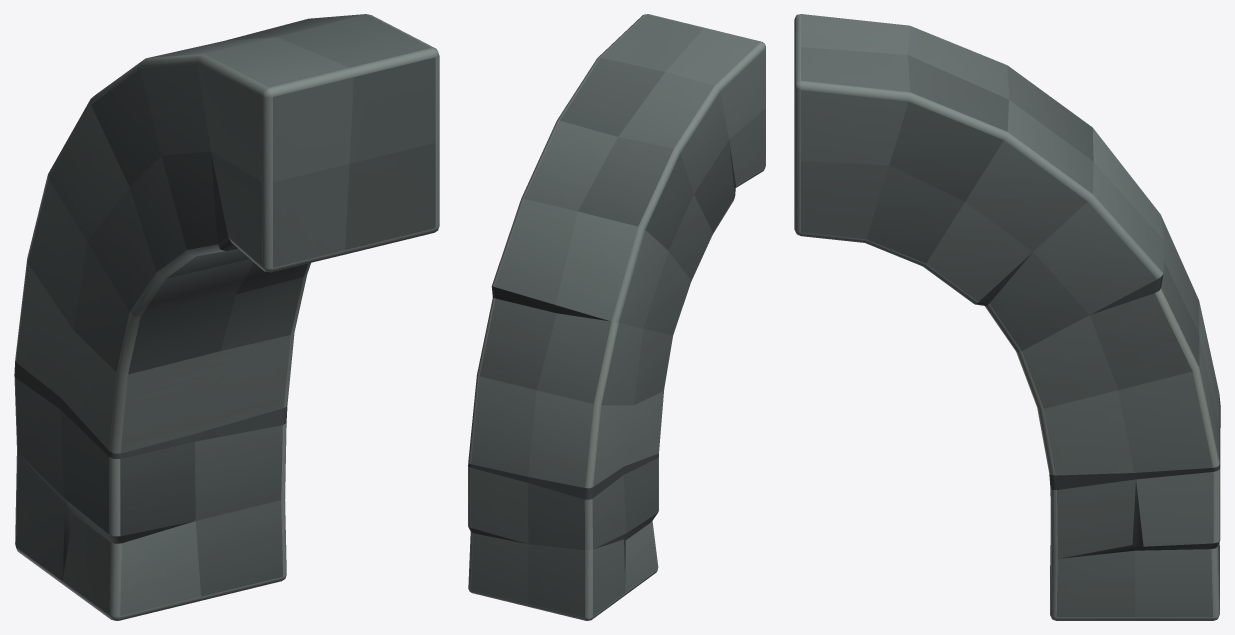
Rendered from tavern_cellar_arch_1.fbx.
3 views of the same model, side by side, from view 1: azimuth 30°, elevation 25°; view 2: azimuth 150°, elevation 25°; view 3: azimuth 270°, elevation 25° (orthographic). The views are drawn at different scales.
Parts seen in each view (by area): view 1: tavern_cellar_arch_1_LOD0; view 2: tavern_cellar_arch_1_LOD0; view 3: tavern_cellar_arch_1_LOD0.
Boxes of the visible parts, bbox=[...] form: tavern_cellar_arch_1_LOD0: bbox=[14, 14, 439, 620]; tavern_cellar_arch_1_LOD0: bbox=[468, 14, 765, 620]; tavern_cellar_arch_1_LOD0: bbox=[794, 14, 1220, 620].
Size of what is drawn, in the model's own units: 103 by 350 by 250.
